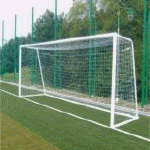goals: (16, 30, 144, 131)
